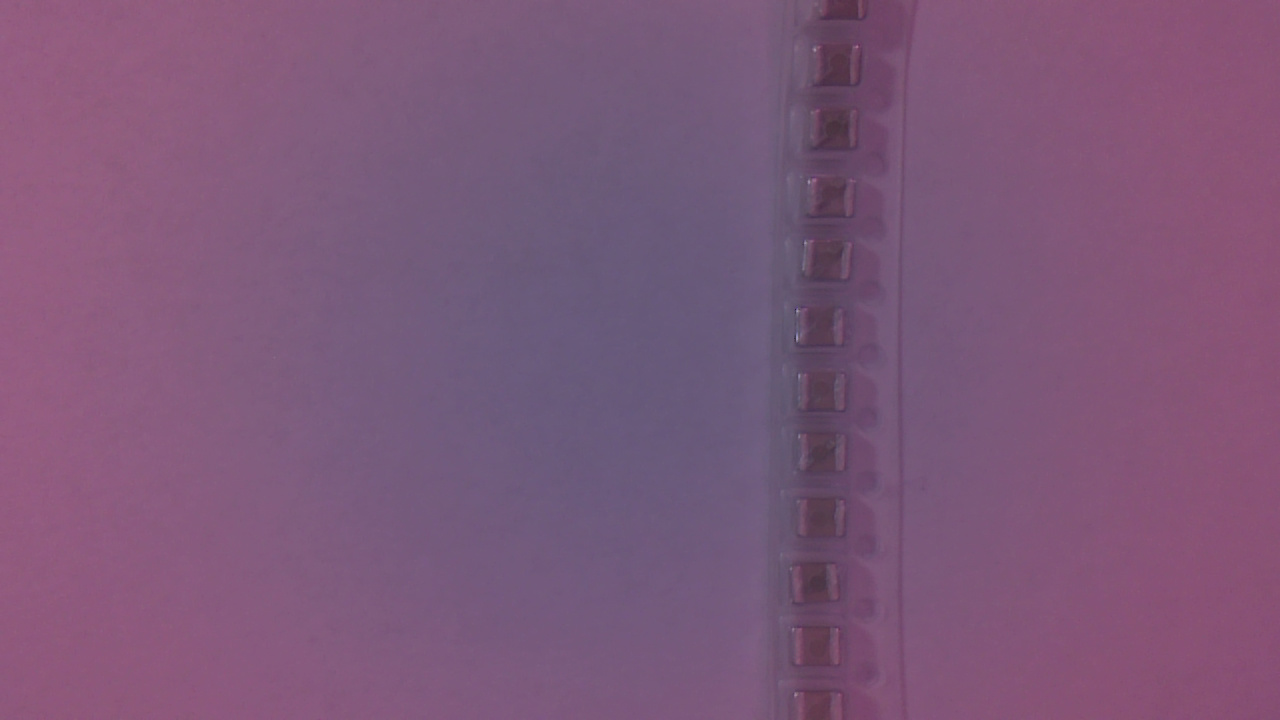Condensator: (797, 304, 854, 355), (795, 626, 848, 677), (809, 177, 863, 227), (792, 565, 849, 611), (803, 498, 853, 549), (816, 109, 866, 159), (817, 44, 864, 92), (804, 374, 854, 419), (802, 435, 855, 477), (810, 239, 856, 287), (797, 689, 849, 720)
